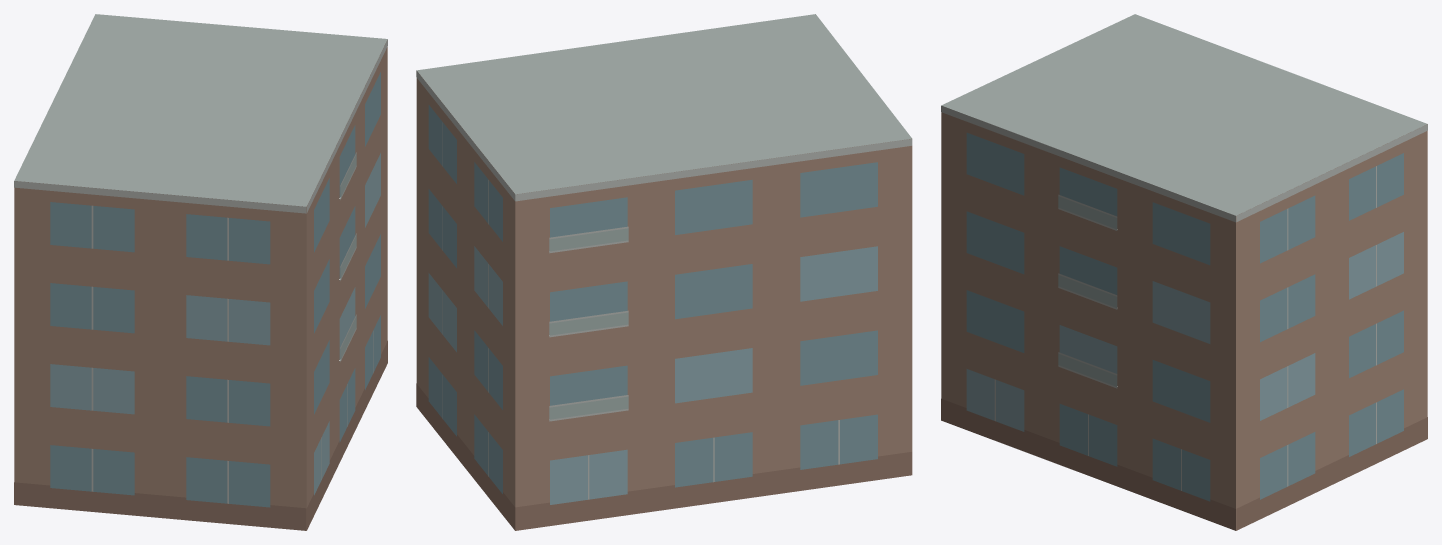
The model's file is survey-upis-32956148.glb.
The picture shows the model from 3 angles, left to right: view 1: azimuth 30°, elevation 25°; view 2: azimuth 150°, elevation 25°; view 3: azimuth 270°, elevation 25°; orthographic projection. The views are drawn at different scales.
Parts seen in each view (by area): view 1: survey-upis-32956148.tmp; view 2: survey-upis-32956148.tmp; view 3: survey-upis-32956148.tmp.
Part boxes in pixels (x1,y1,x2,y2): survey-upis-32956148.tmp: (14,14,387,530); survey-upis-32956148.tmp: (416,14,912,530); survey-upis-32956148.tmp: (941,14,1427,530).
Size of the model in its own units: 15.95 by 11.6 by 16.25.
